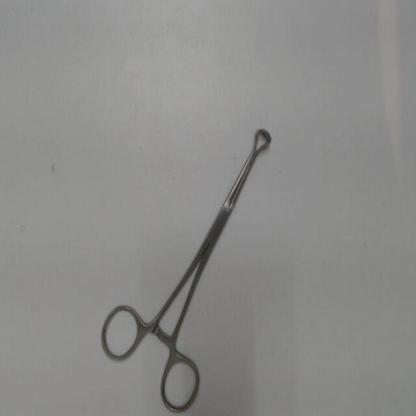Babcock Tissue Forceps: (96, 121, 276, 415)
